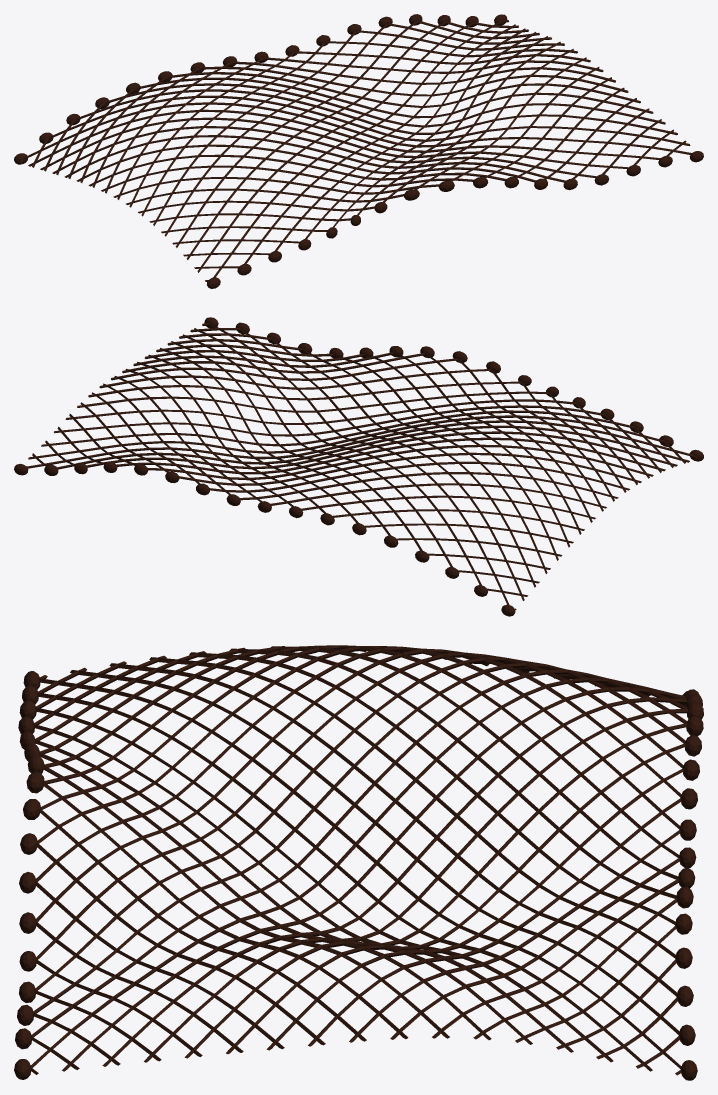
The model's file is neka.glb.
3 views of the same model, one above another, from view 1: azimuth 30°, elevation 25°; view 2: azimuth 150°, elevation 25°; view 3: azimuth 270°, elevation 25° (orthographic). The views are drawn at different scales.
Visible parts, largest first — view 1: malla; view 2: malla; view 3: malla.
Boxes of the visible parts, x1,y1,x2,y2 form: malla: [14, 14, 703, 288]; malla: [14, 317, 703, 616]; malla: [14, 645, 703, 1080].
Size of the model in its own units: 2.92 by 0.3918 by 2.02.
